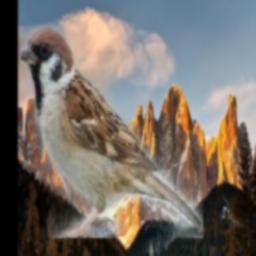Sparrow: (21, 25, 203, 239)
